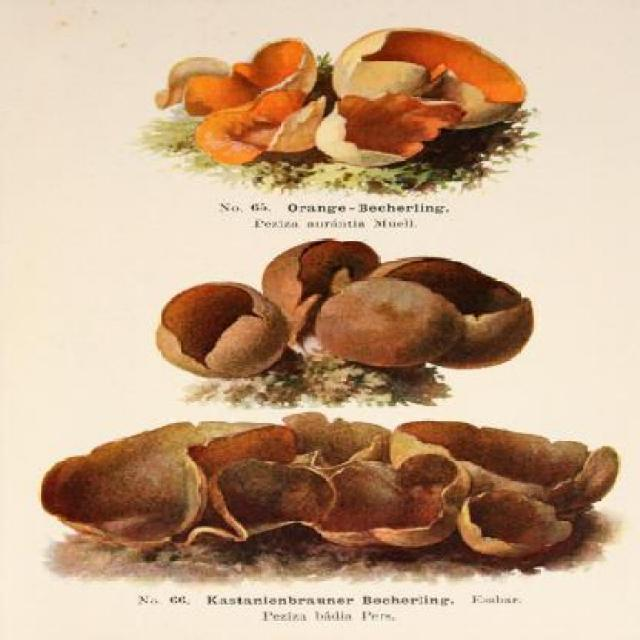Mushroom: (39, 407, 618, 556), (153, 239, 536, 381), (150, 26, 530, 166)
